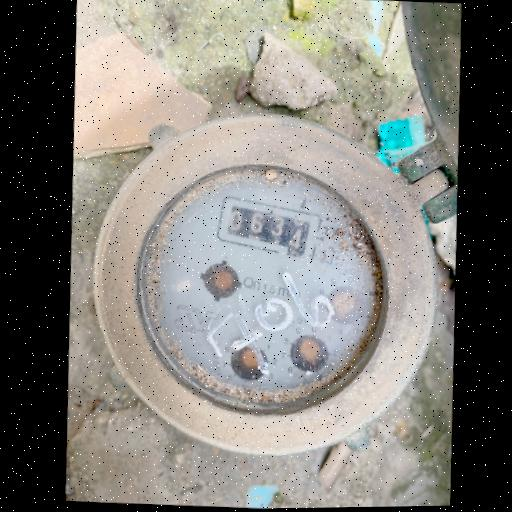0: (226, 205, 251, 237)
3: (265, 214, 294, 248)
4: (285, 219, 311, 259)
6: (243, 209, 274, 243)
border_water_meter_number: (213, 192, 325, 265)
